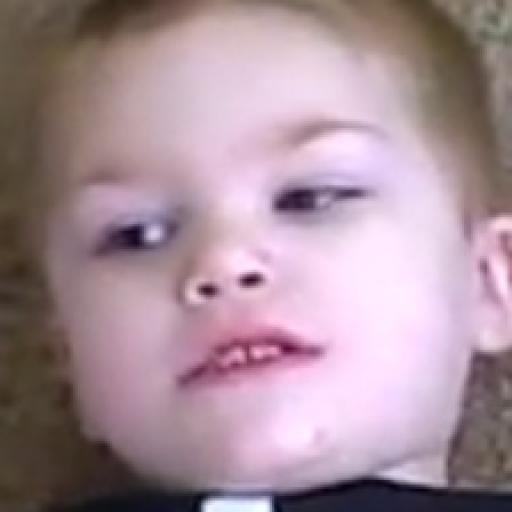Autism: (27, 4, 512, 468)
